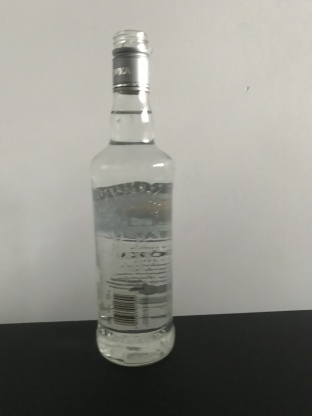nakretka: (110, 28, 151, 95)
